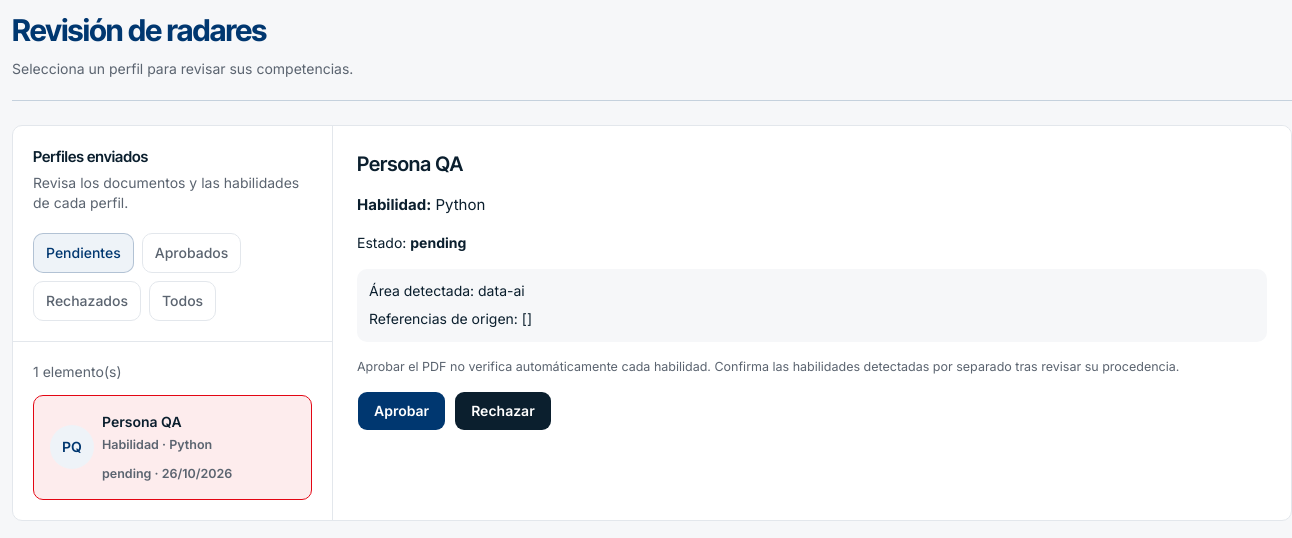
Test case: ReviewQueueView with the persistent API › reviews a real queued skill and reloads the saved decision
Expected: the heading "Persona QA" is shown, [357, 152, 463, 176]
Step 1. Click the button "Aprobar" → point(402, 411), box [357, 391, 446, 431]
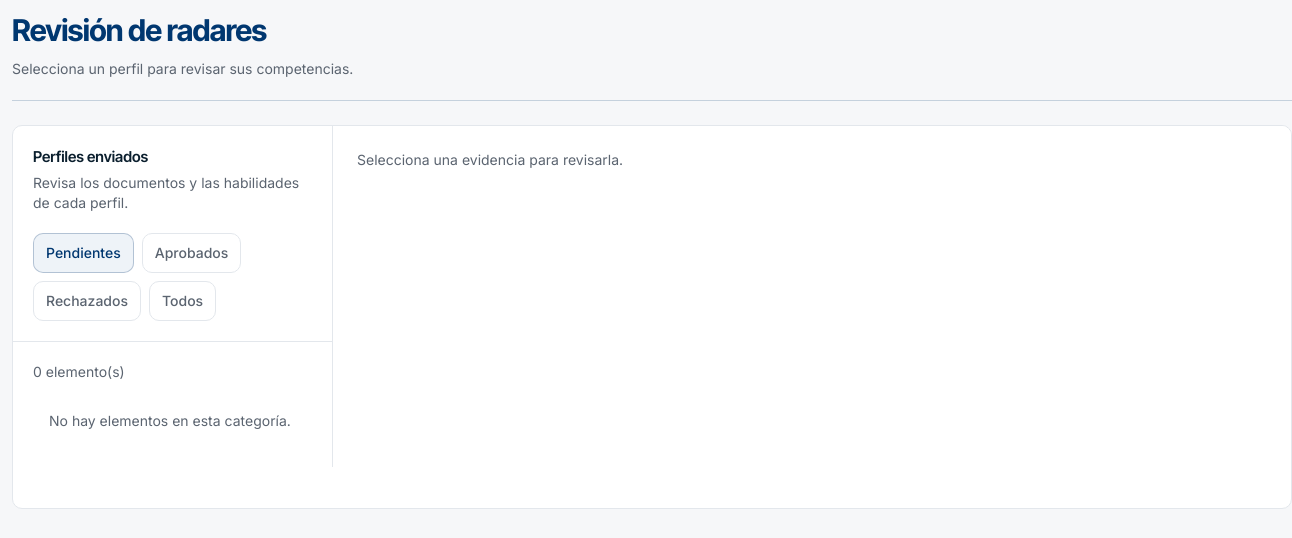
Step 2. Click the button "Aprobados" → point(192, 253), box [142, 233, 241, 273]
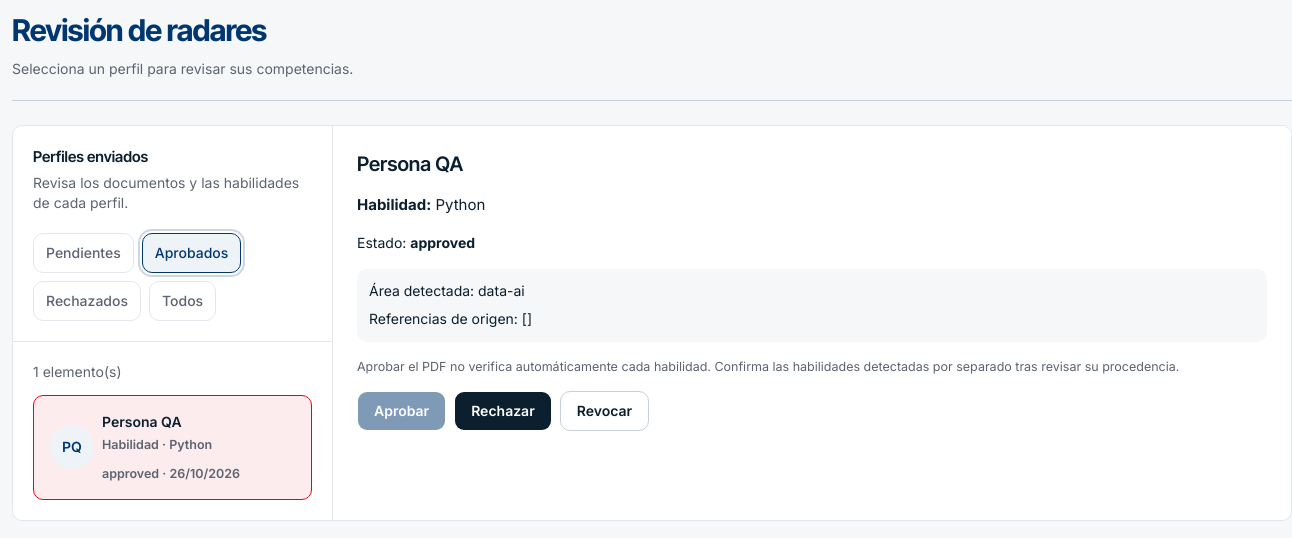
Expected: the heading "Persona QA" is shown, [357, 152, 463, 176]
Expected: the button "Revocar" is enabled, [560, 391, 649, 431]
Expected: the button "Aprobar" is disabled, [357, 391, 446, 431]
